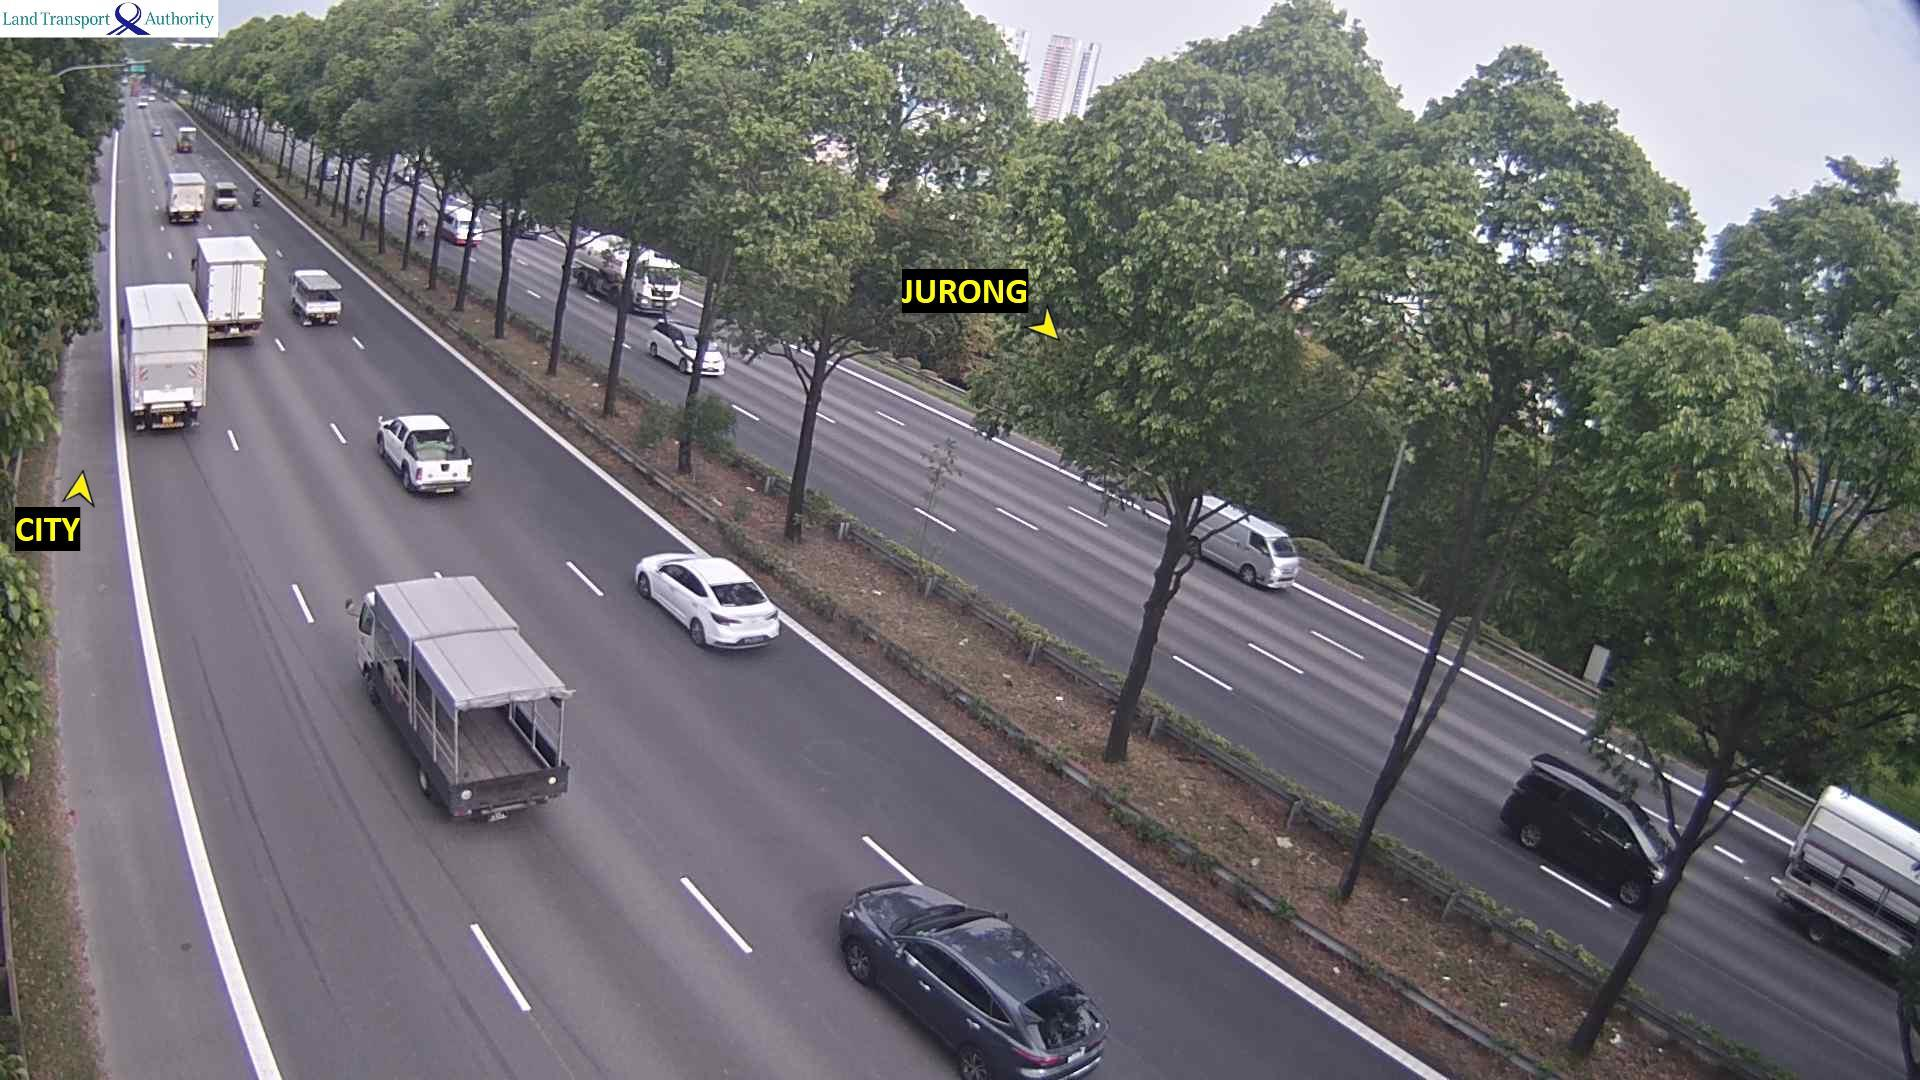cars: (836, 880, 1109, 1077), (1498, 752, 1676, 909), (632, 550, 781, 651), (1189, 495, 1302, 589), (645, 318, 725, 377), (438, 204, 483, 247), (512, 210, 541, 240), (316, 156, 345, 182), (394, 160, 419, 185), (136, 94, 153, 107), (149, 124, 162, 137)
motorcycle: (413, 215, 427, 244), (357, 185, 373, 208), (251, 186, 265, 208)
trucks: (345, 568, 574, 823), (1770, 783, 1919, 961), (119, 281, 208, 431), (575, 222, 680, 314), (189, 233, 266, 342), (375, 411, 473, 496), (289, 269, 343, 327), (165, 171, 206, 223), (212, 179, 237, 210), (175, 125, 196, 152)
